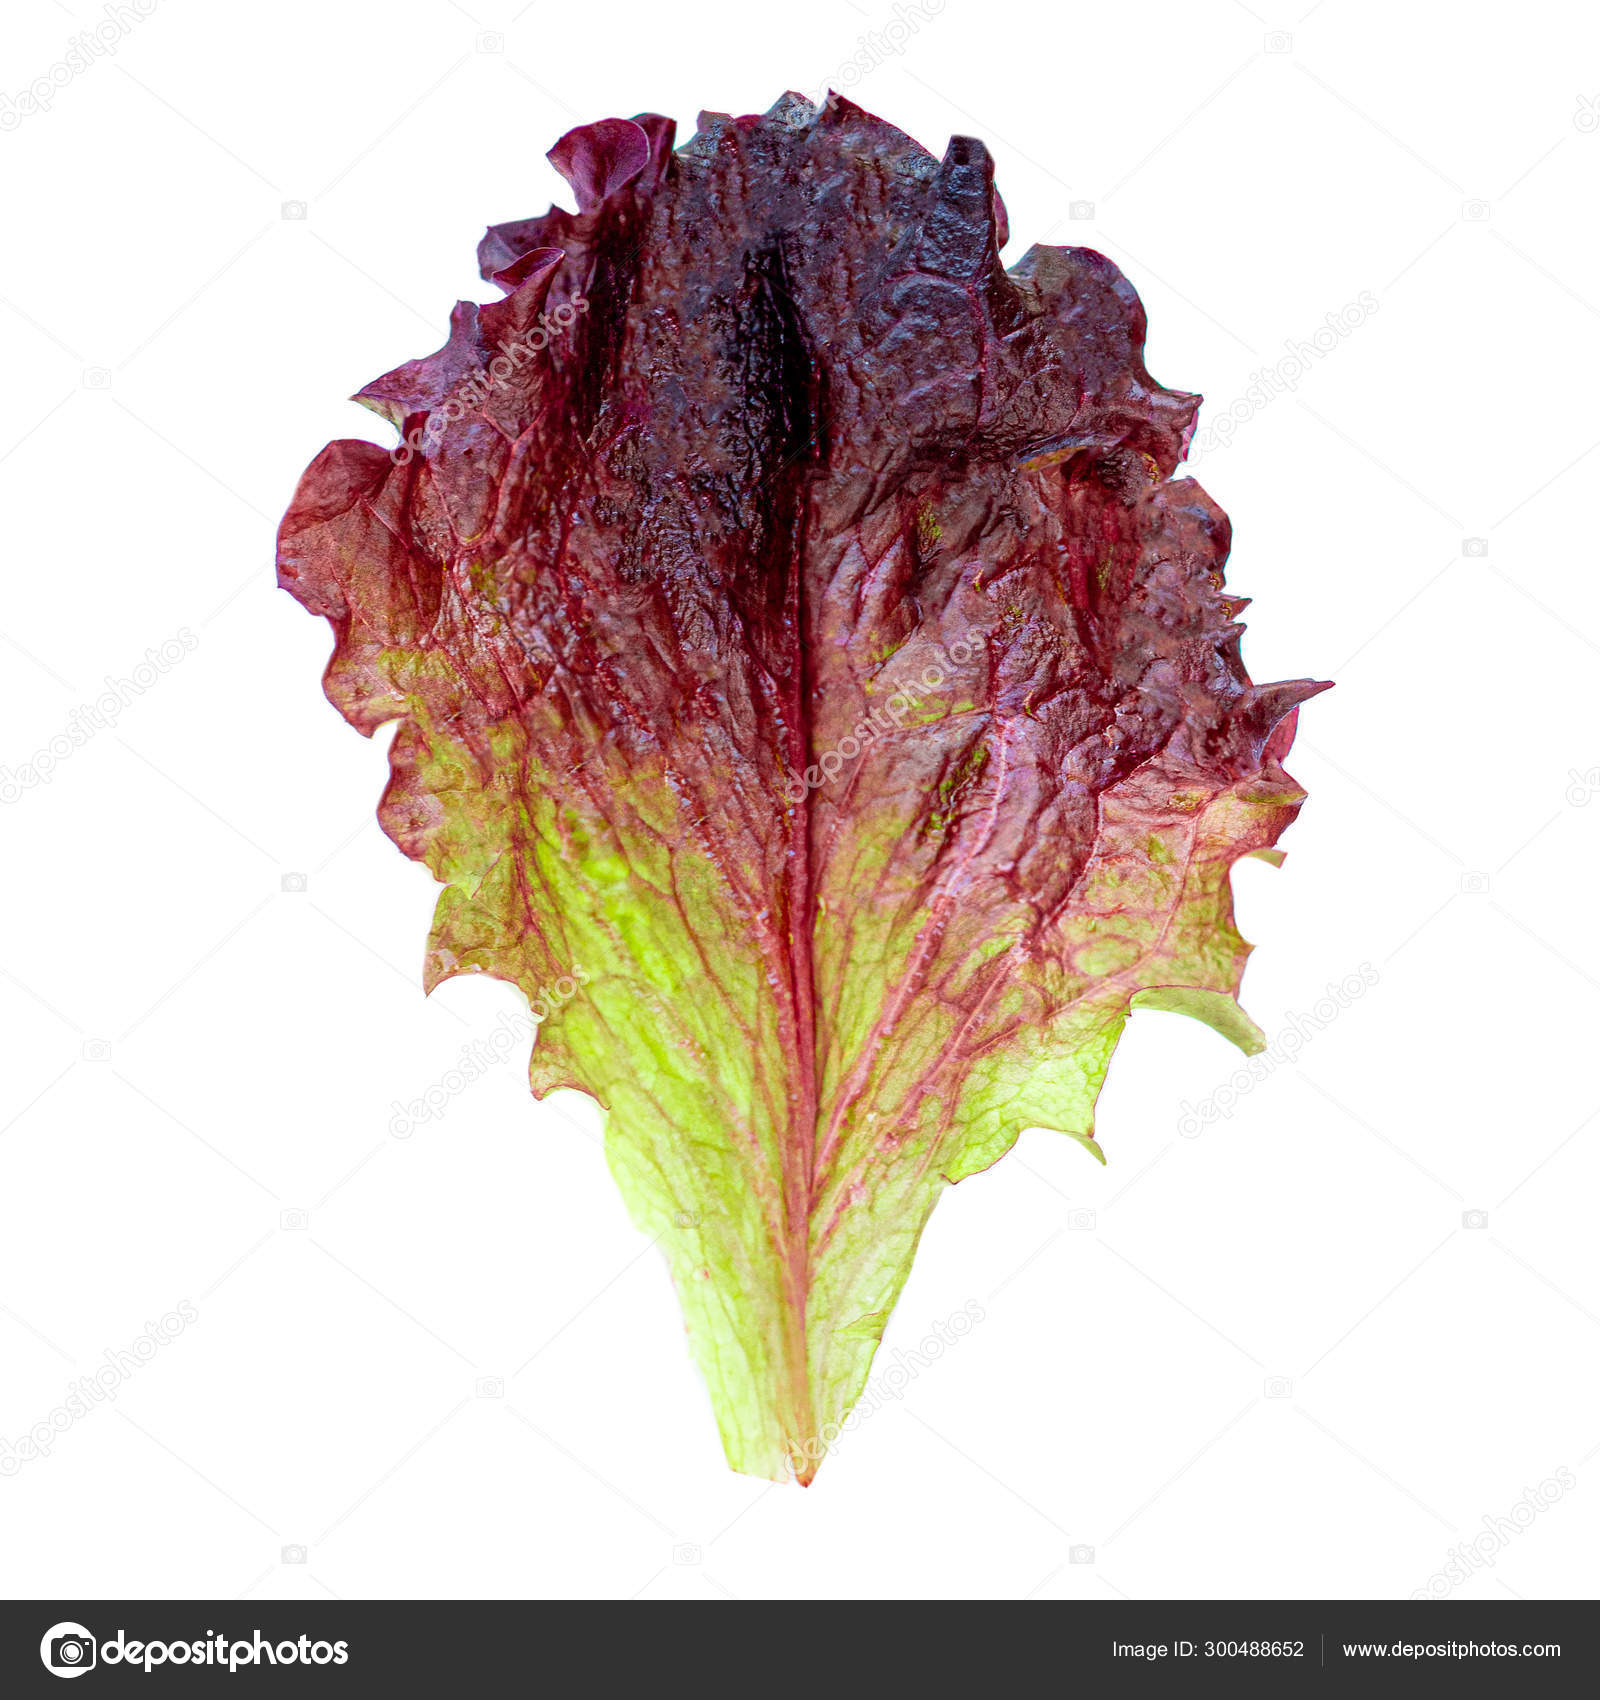lettuce: (229, 0, 1420, 1432)
